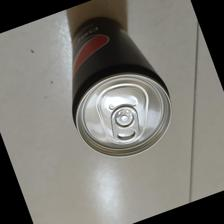Pepsi: (71, 17, 175, 161)
